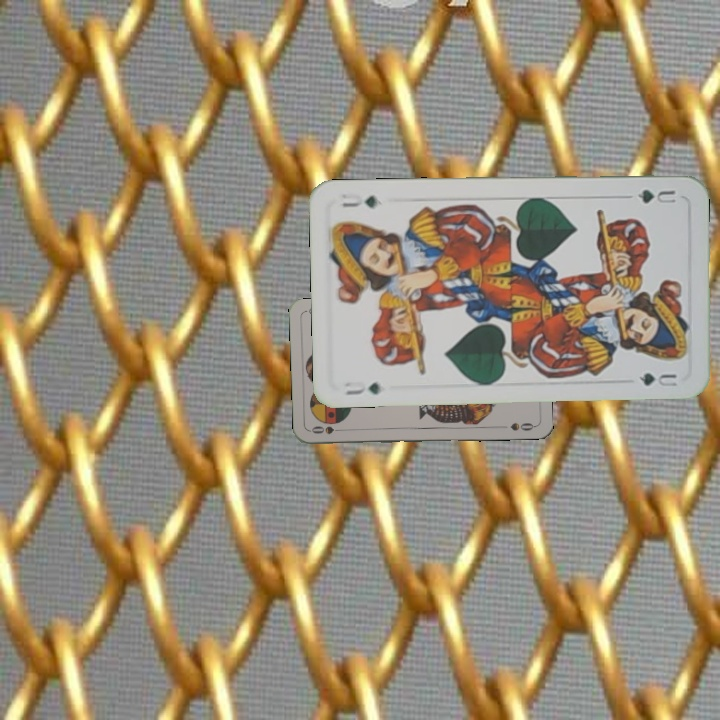GU: (633, 185, 679, 206), (341, 377, 382, 398)
SO: (307, 422, 348, 436)
